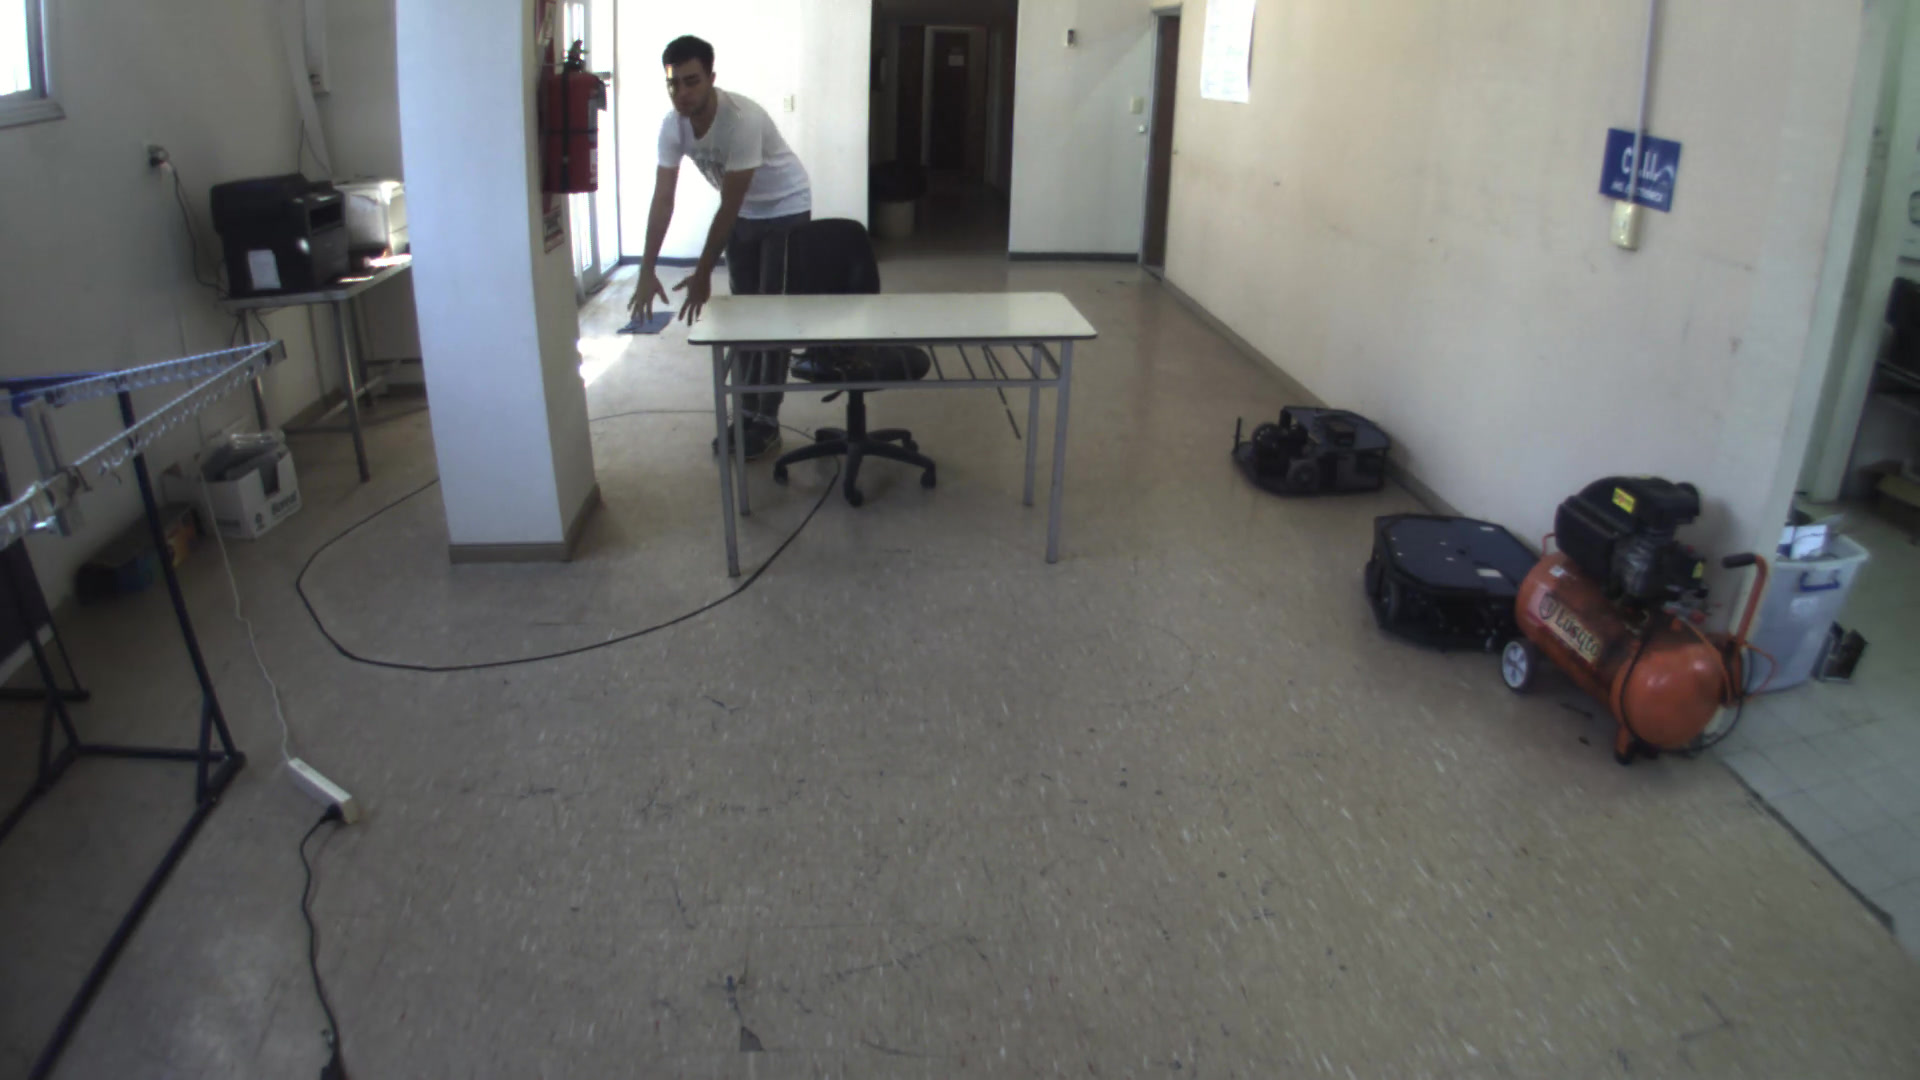hand: (607, 260, 679, 331), (666, 265, 716, 328)
